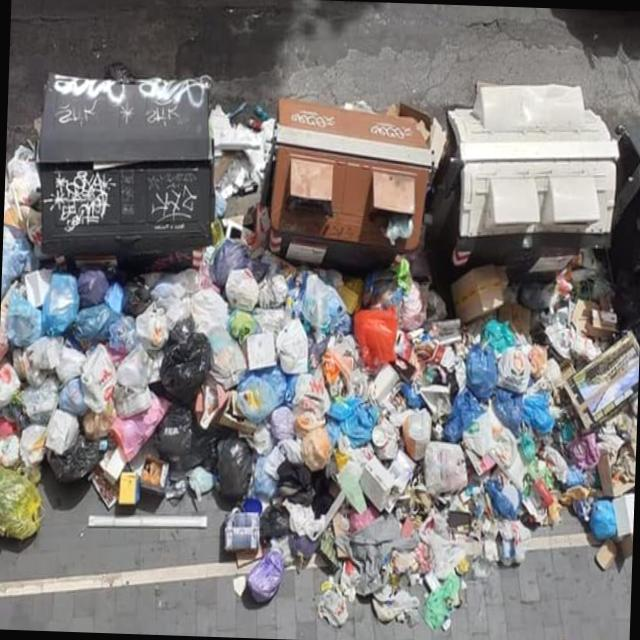garbage: (0, 160, 640, 634)
